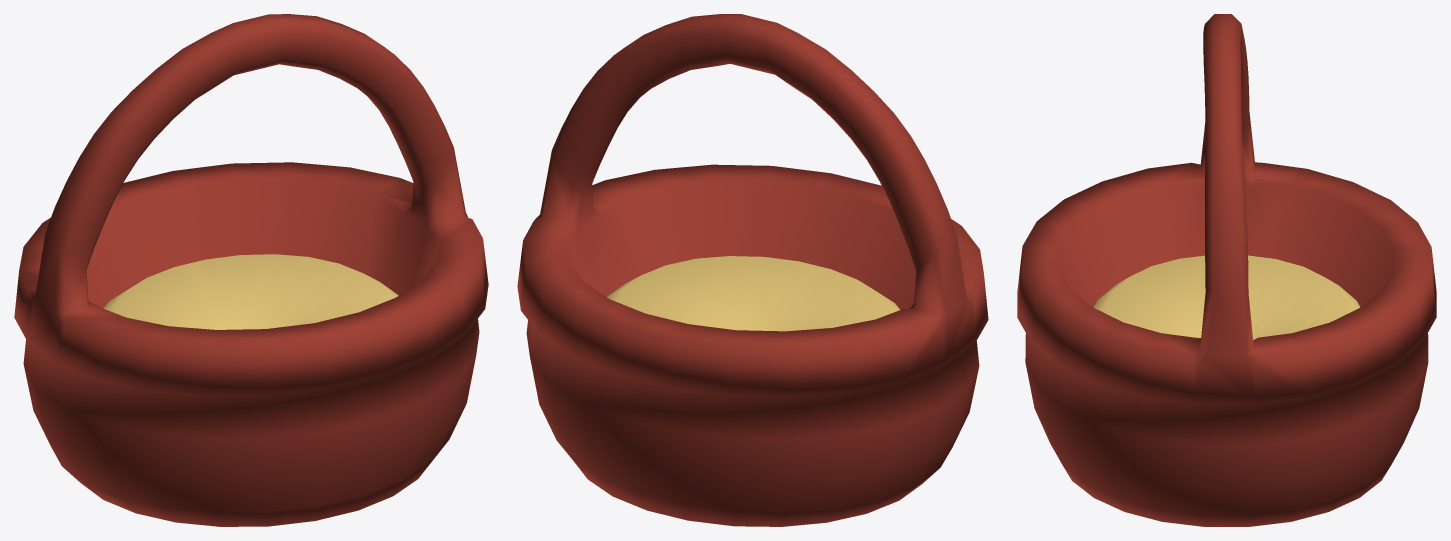
The model's file is SM_basket.fbx.
3 views of the same model, side by side, from view 1: azimuth 30°, elevation 25°; view 2: azimuth 150°, elevation 25°; view 3: azimuth 270°, elevation 25° (orthographic). The views are drawn at different scales.
Parts seen in each view (by area): view 1: M_basket; view 2: M_basket; view 3: M_basket.
Part boxes in pixels (left/top/right/bottom): M_basket: left=14, top=14, right=488, bottom=526; M_basket: left=517, top=14, right=988, bottom=526; M_basket: left=1017, top=14, right=1436, bottom=526.
Bounding box in the file's own units: 49.69 × 49.17 × 44.46.
